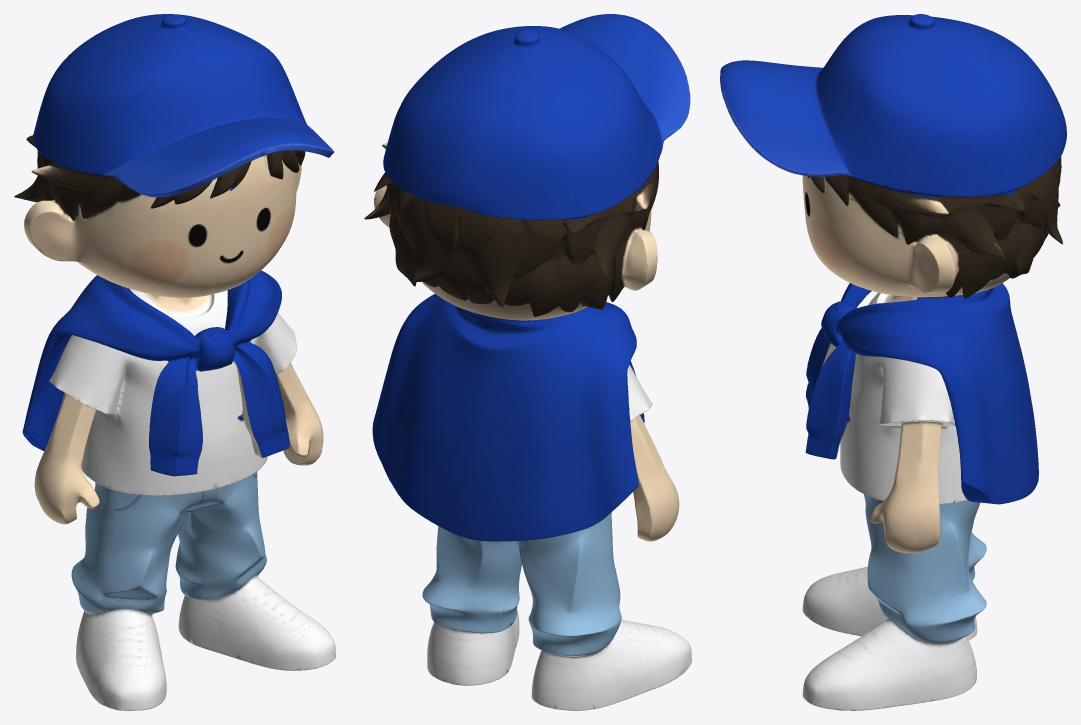
File: blue-cap-buddy.glb
The picture shows the model from 3 angles, left to right: view 1: azimuth 30°, elevation 25°; view 2: azimuth 150°, elevation 25°; view 3: azimuth 270°, elevation 25°; orthographic projection.
Size of the model in its own units: 0.8636 by 1.9 by 0.9341.
Materials: 1 (1 with a texture image).
